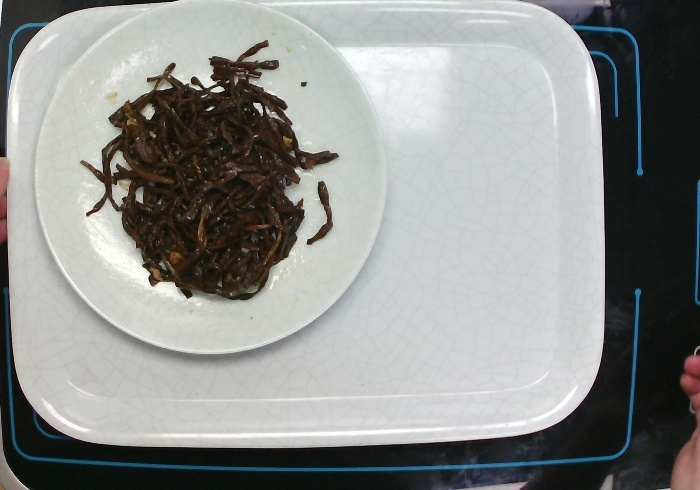JYsf-Da_Yuan_Pan: (31, 1, 390, 360)
